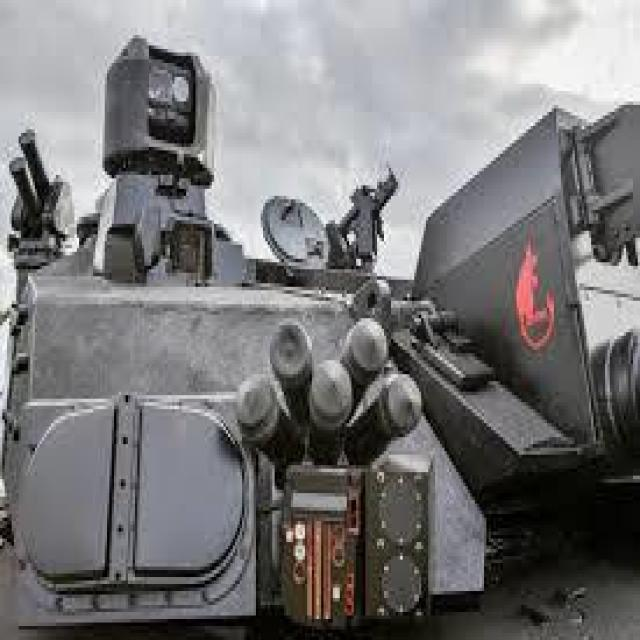Tanks: (14, 58, 638, 634)
